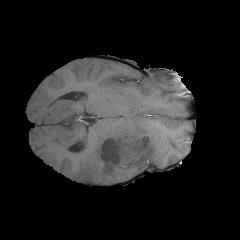glioma: (81, 117, 175, 184)
